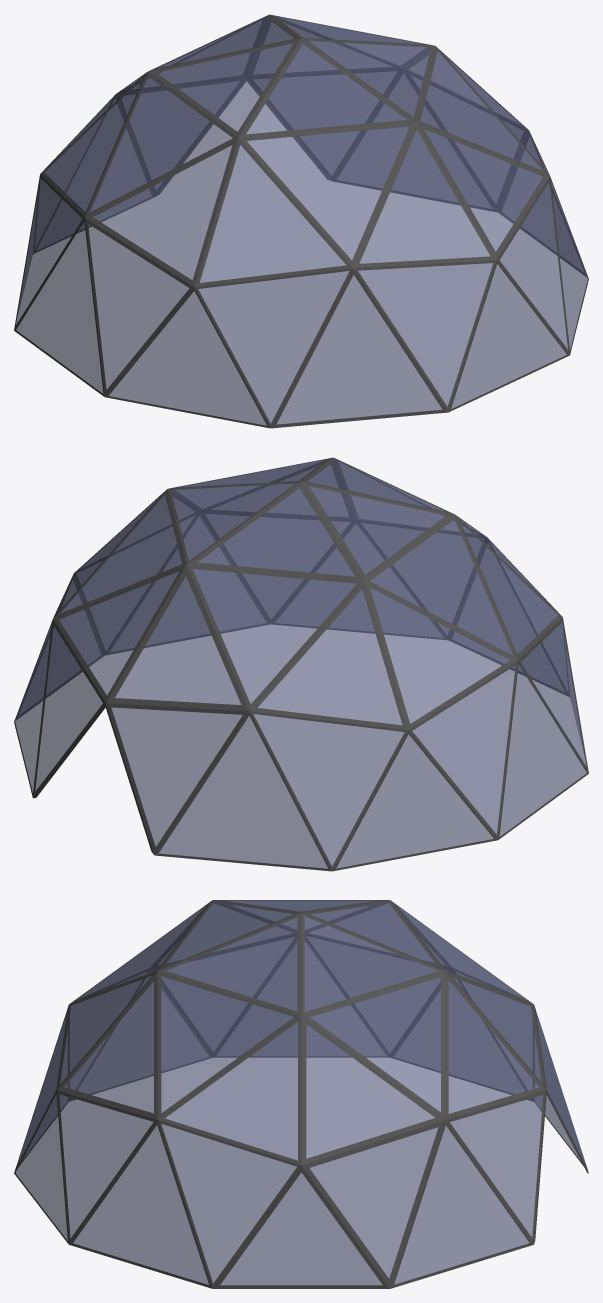
The model's file is cupula.fbx.
3 renders of one model, top to bottom at view 1: azimuth 30°, elevation 25°; view 2: azimuth 150°, elevation 25°; view 3: azimuth 270°, elevation 25°, orthographic. The views are drawn at different scales.
Parts seen in each view (by area): view 1: Icosphere.001; view 2: Icosphere.001; view 3: Icosphere.001.
Boxes of the visible parts, <box> form: Icosphere.001: <box>14,14,588,428</box>; Icosphere.001: <box>14,457,588,871</box>; Icosphere.001: <box>14,900,588,1288</box>.
Size of the model in its own units: 1.9 by 1 by 2.
